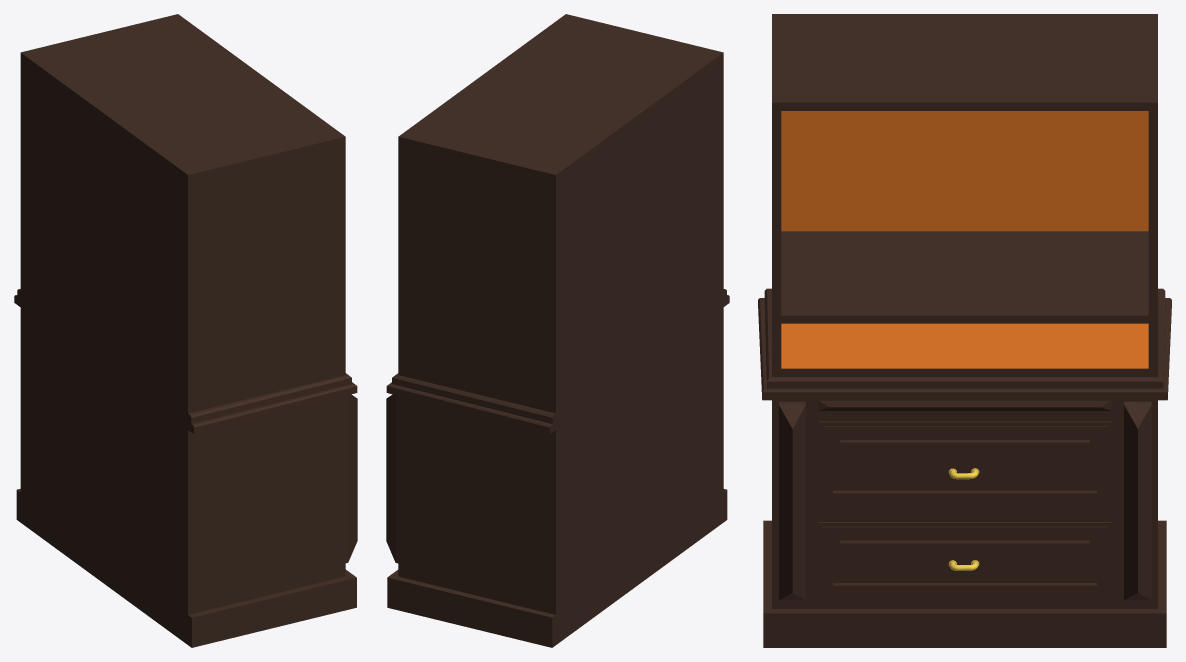
File: Meuble-TV-2000.glb
3 renders of one model, left to right at view 1: azimuth 30°, elevation 25°; view 2: azimuth 150°, elevation 25°; view 3: azimuth 270°, elevation 25°, orthographic. The views are drawn at different scales.
Parts seen in each view (by area): view 1: Cube; view 2: Cube; view 3: Cube.
Boxes of the visible parts, x1,y1,x2,y2 form: Cube: (14,14,357,647); Cube: (386,14,729,647); Cube: (758,14,1171,647).
Bounding box in the file's own units: 0.7358 × 1.85 × 1.28.
